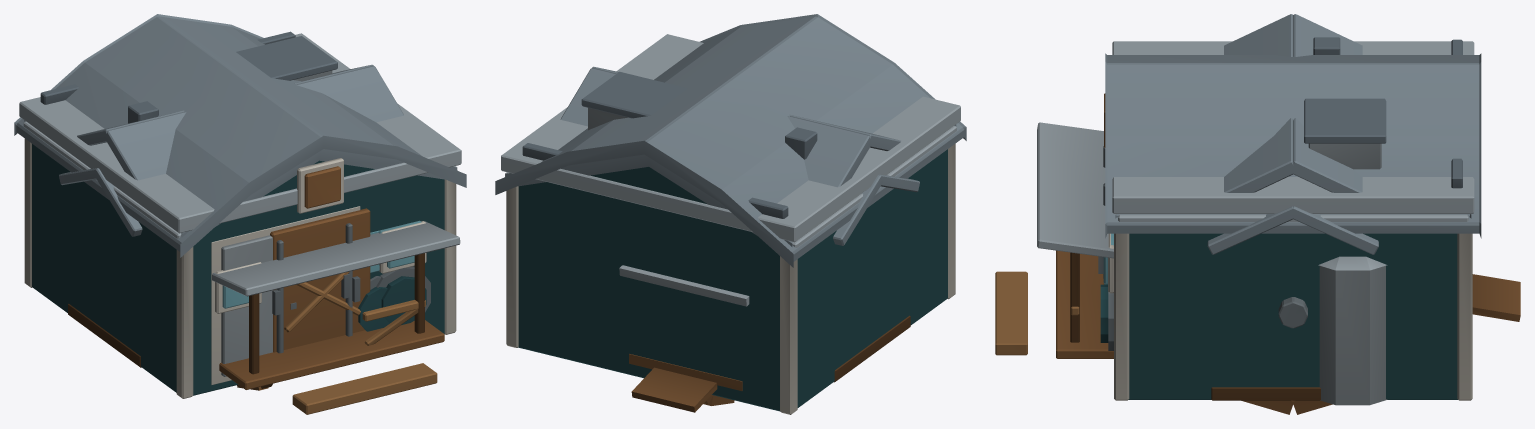
Rendered from buildings.glb.
3 renders of one model, left to right at view 1: azimuth 30°, elevation 25°; view 2: azimuth 150°, elevation 25°; view 3: azimuth 270°, elevation 25°, orthographic. The views are drawn at different scales.
Visible parts, largest first — view 1: SM_building_barn, SM_building_worker_hut, SM_building_cold_store, SM_building_mill, SM_building_creamery, SM_building_preserve_kitchen, SM_building_loading_pad; view 2: SM_building_barn, SM_building_cold_store, SM_building_coop, SM_building_worker_hut, SM_building_mill, SM_building_preserve_kitchen, SM_building_creamery, SM_building_loading_pad; view 3: SM_building_barn, SM_building_worker_hut, SM_building_cold_store, SM_building_creamery, SM_building_preserve_kitchen, SM_building_coop, SM_building_mill, SM_building_loading_pad, SM_building_mill_wheel.
Boxes of the visible parts, x1,y1,x2,y2 form: SM_building_barn: (14, 14, 466, 398); SM_building_worker_hut: (77, 64, 460, 414); SM_building_cold_store: (19, 31, 461, 384); SM_building_mill: (24, 101, 456, 237); SM_building_creamery: (23, 121, 457, 331); SM_building_preserve_kitchen: (59, 168, 142, 236); SM_building_loading_pad: (68, 304, 141, 367); SM_building_barn: (495, 14, 966, 414); SM_building_cold_store: (501, 34, 960, 242); SM_building_coop: (619, 265, 749, 412); SM_building_worker_hut: (560, 66, 900, 187); SM_building_mill: (505, 124, 956, 246); SM_building_preserve_kitchen: (833, 174, 919, 245); SM_building_creamery: (505, 126, 956, 247); SM_building_loading_pad: (834, 315, 910, 382); SM_building_barn: (1098, 53, 1481, 400); SM_building_worker_hut: (995, 14, 1362, 358); SM_building_cold_store: (1100, 39, 1474, 350); SM_building_creamery: (1104, 214, 1468, 405); SM_building_preserve_kitchen: (1207, 206, 1378, 254); SM_building_coop: (1472, 274, 1520, 321); SM_building_mill: (1115, 37, 1471, 328); SM_building_loading_pad: (1211, 387, 1320, 400); SM_building_mill_wheel: (1241, 400, 1332, 414).
Bounding box in the file's own units: 3.95 × 4.04 × 5.48.
